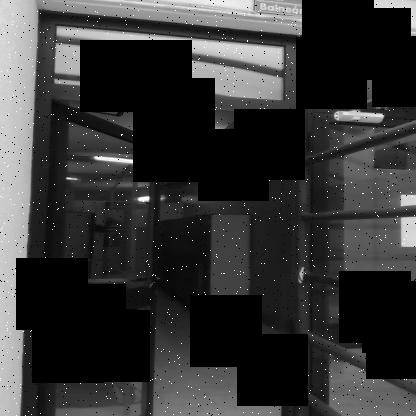Porte: (23, 84, 307, 416)
